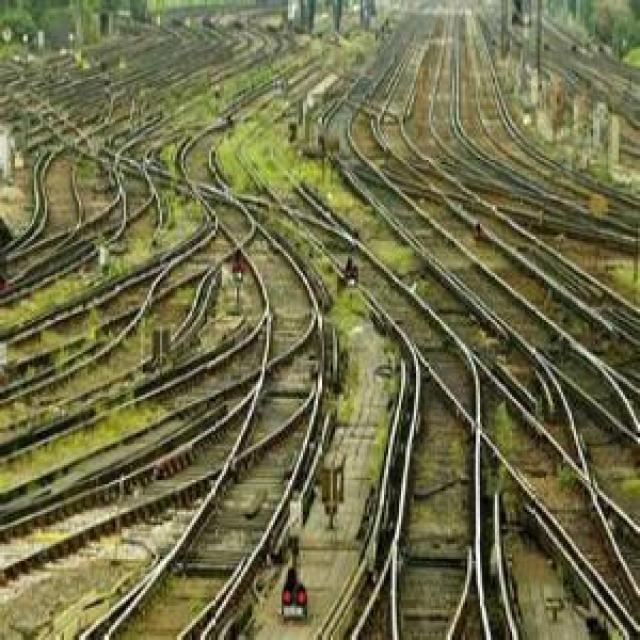rail: (1, 2, 640, 640)
